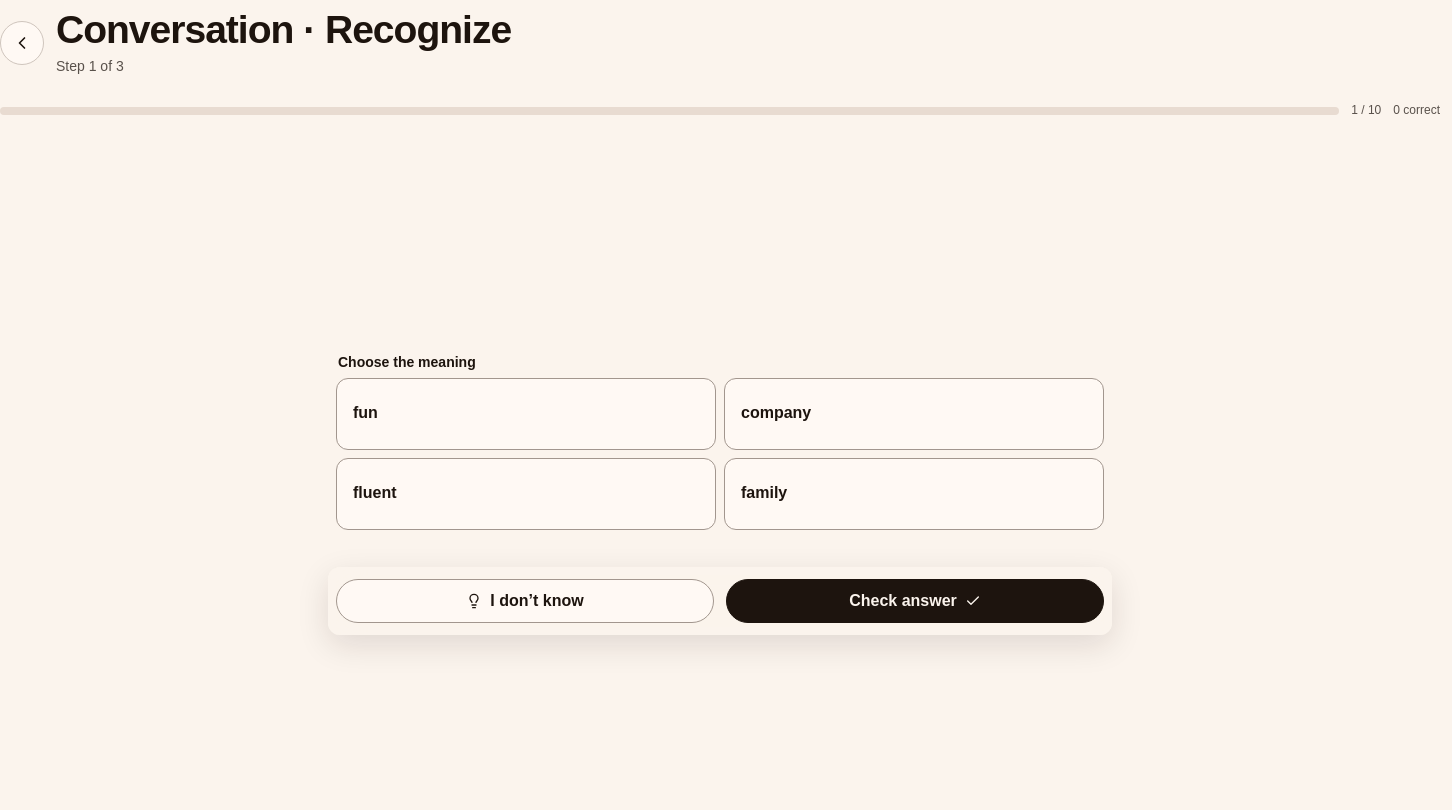
Scenario: trip-based curriculum UI › presents four keyboard-free choices for the first Japanese checkpoint
Click the button "company". click: (776, 413)
box: [724, 378, 1104, 450]
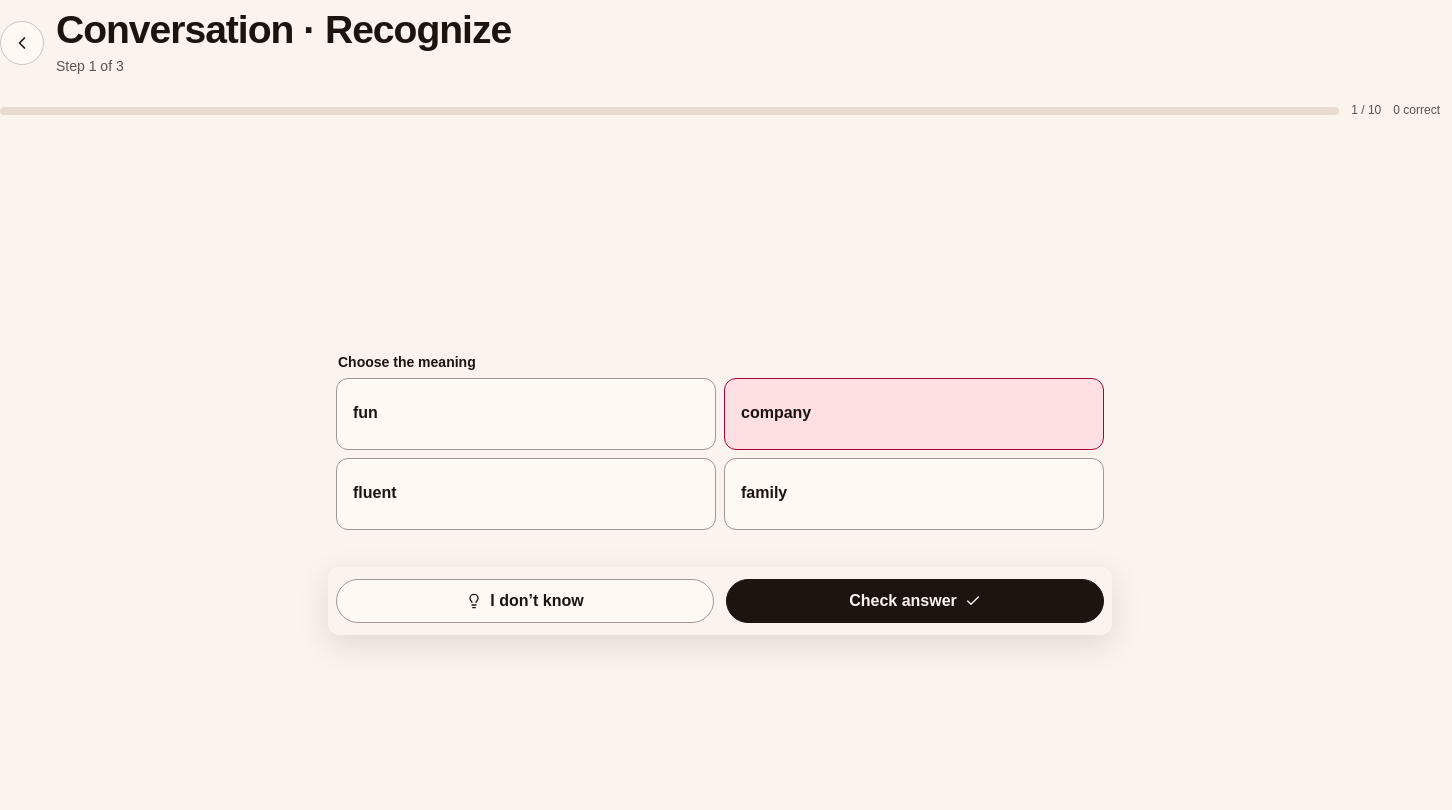
Click the button "Check answer". click: (915, 601)
box: [726, 579, 1104, 623]
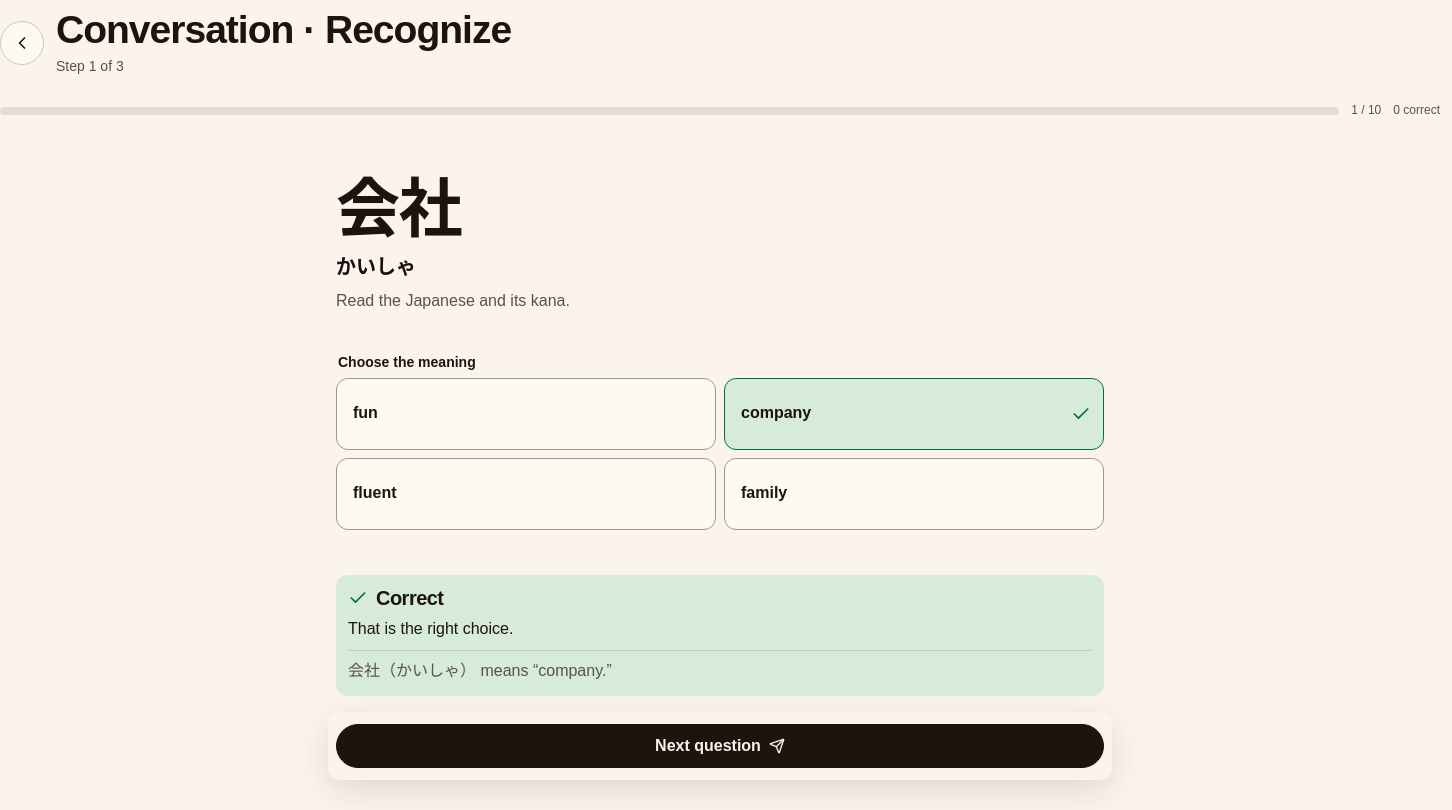
Expected: the heading "Correct" is shown, [376, 587, 444, 609]
